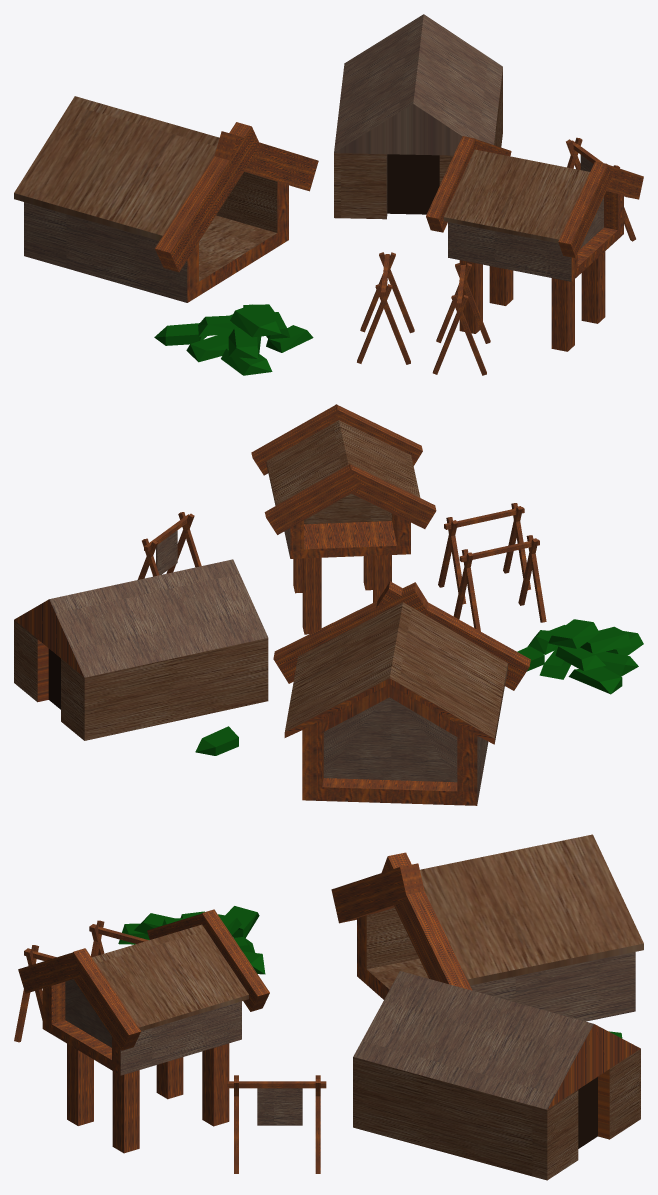
Rendered from Market.dae.
3 views of the same model, one above another, from view 1: azimuth 30°, elevation 25°; view 2: azimuth 150°, elevation 25°; view 3: azimuth 270°, elevation 25° (orthographic). The views are drawn at different scales.
Parts seen in each view (by area): view 1: Cube.040, Cube.002, Cube.016, Cube.015, Cube.014, Cube.010, Cube.009, Cube.006, Cube.005, Cube.038, Cube.007, Cube.003 (+7 smaller); view 2: Cube.040, Cube.002, Cube.016, Cube.014, Cube.008, Cube.015, Cube.009, Cube.011, Cube.003, Cube.010, Cube.038, Cube.034 (+6 smaller); view 3: Cube.002, Cube.040, Cube.016, Cube.014, Cube.015, Cube.011, Cube.005, Cube.003, Cube.008, Cube.006, Cube, Cube.010 (+5 smaller).
Boxes of the visible parts, x1,y1,x2,y2 form: Cube.040: [14, 96, 288, 302]; Cube.002: [334, 14, 502, 219]; Cube.016: [443, 149, 623, 281]; Cube.015: [155, 122, 260, 272]; Cube.014: [214, 131, 318, 191]; Cube.010: [558, 161, 612, 257]; Cube.009: [426, 136, 478, 232]; Cube.006: [551, 278, 574, 351]; Cube.005: [581, 251, 605, 323]; Cube.038: [230, 304, 281, 337]; Cube.007: [459, 260, 482, 333]; Cube.003: [489, 266, 513, 305]; Cube.040: [284, 602, 507, 805]; Cube.002: [14, 559, 268, 740]; Cube.016: [266, 420, 420, 558]; Cube.014: [273, 582, 429, 683]; Cube.008: [264, 464, 362, 534]; Cube.015: [376, 581, 530, 690]; Cube.009: [348, 464, 436, 528]; Cube.011: [251, 404, 343, 475]; Cube.003: [302, 557, 321, 634]; Cube.010: [327, 404, 422, 465]; Cube.038: [548, 619, 599, 648]; Cube.034: [568, 666, 622, 694]; Cube.002: [353, 971, 640, 1180]; Cube.040: [357, 834, 643, 1021]; Cube.016: [42, 924, 248, 1075]; Cube.014: [381, 852, 472, 990]; Cube.015: [331, 863, 424, 923]; Cube.011: [73, 948, 140, 1050]; Cube.005: [112, 1070, 139, 1153]; Cube.003: [202, 1043, 229, 1126]; Cube.008: [202, 909, 269, 1011]; Cube.006: [67, 1043, 93, 1125]; Cube: [257, 1088, 302, 1125]; Cube.010: [18, 948, 86, 993].
Bounding box in the file's own units: 27.11 × 27.67 × 9.23.
Materials: 2 (2 with a texture image).
